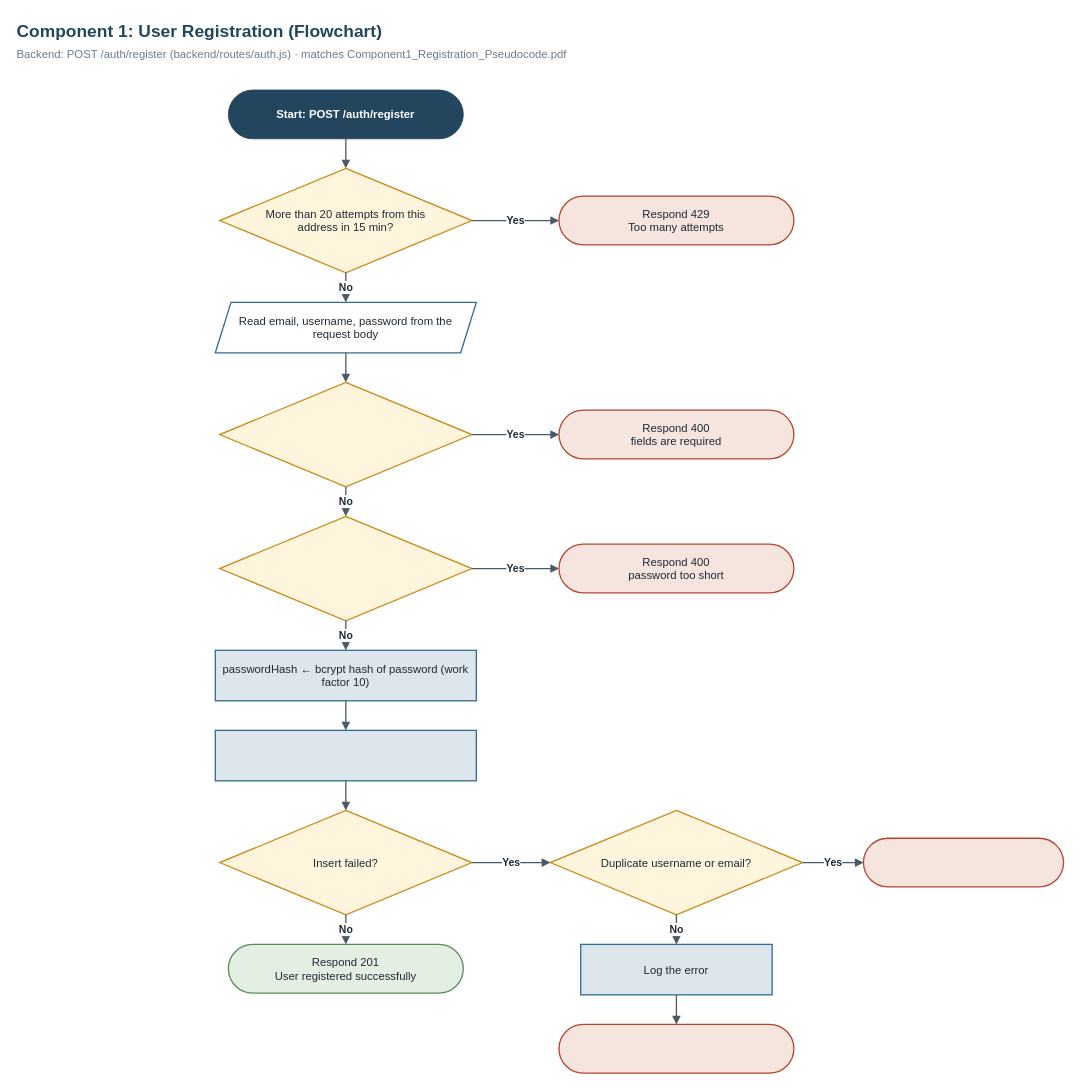
This 1079x1088 diagram has some shape labels left out. The shapes that lost their labels are listed below. From the top down, each one's centre as x and y in pixels, then its label:
At point (345, 434): "Email, username, or password missing?".
At point (345, 568): "Password shorter than 8 characters?".
At point (345, 755): "Insert username, email, passwordHash into the users table".
At point (963, 862): "Respond 409 already registered".
At point (676, 1048): "Respond 500 Failed to register user".
